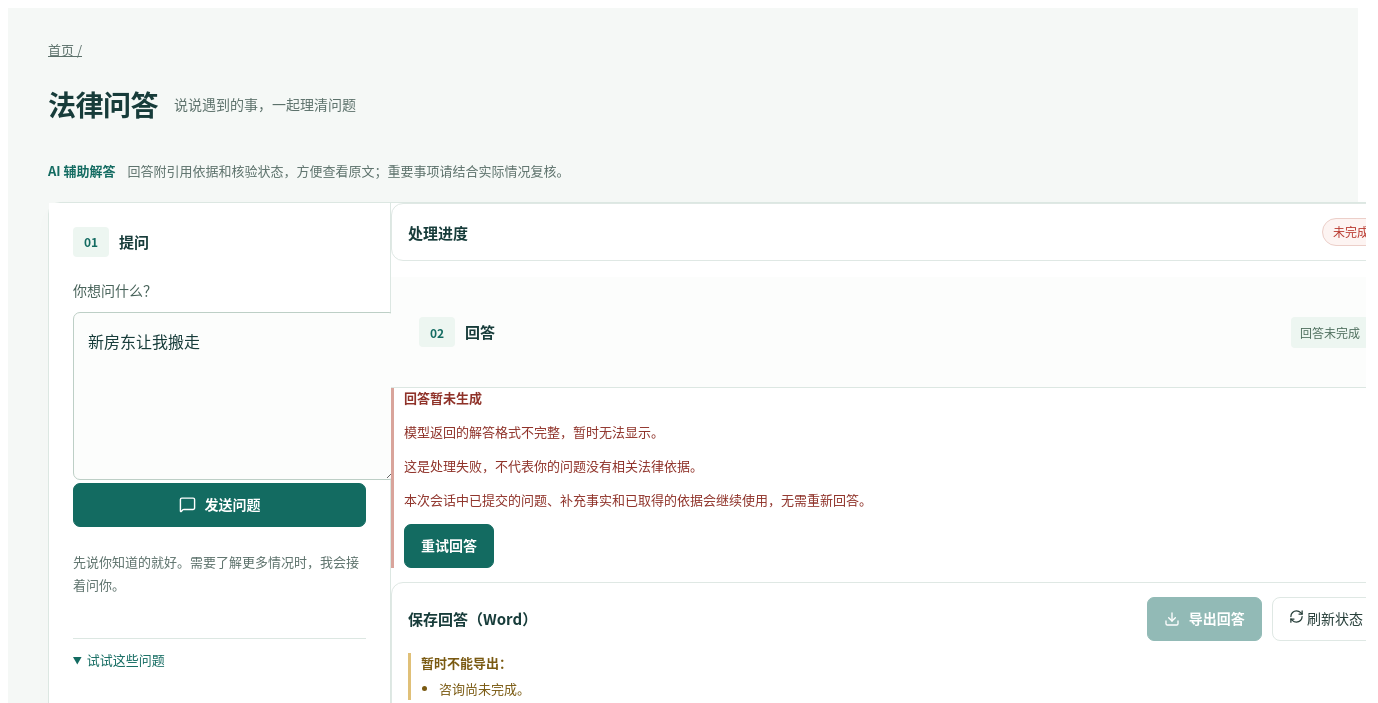
Scenario: 咨询整页的失败与恢复 › 格式失败显示重试而不是无依据，沿用原会话，不重新提交问题
This screenshot has width=1378, height=703.
Expected: the text "回答暂未生成" is shown, top-left (404, 388), bottom-right (482, 408)
Expected: the text "模型返回的解答格式不完整，暂时无法显示。" is shown, top-left (404, 422), bottom-right (664, 441)
Click the button "重试回答" at (449, 546), box top-left (404, 524), bottom-right (494, 568)
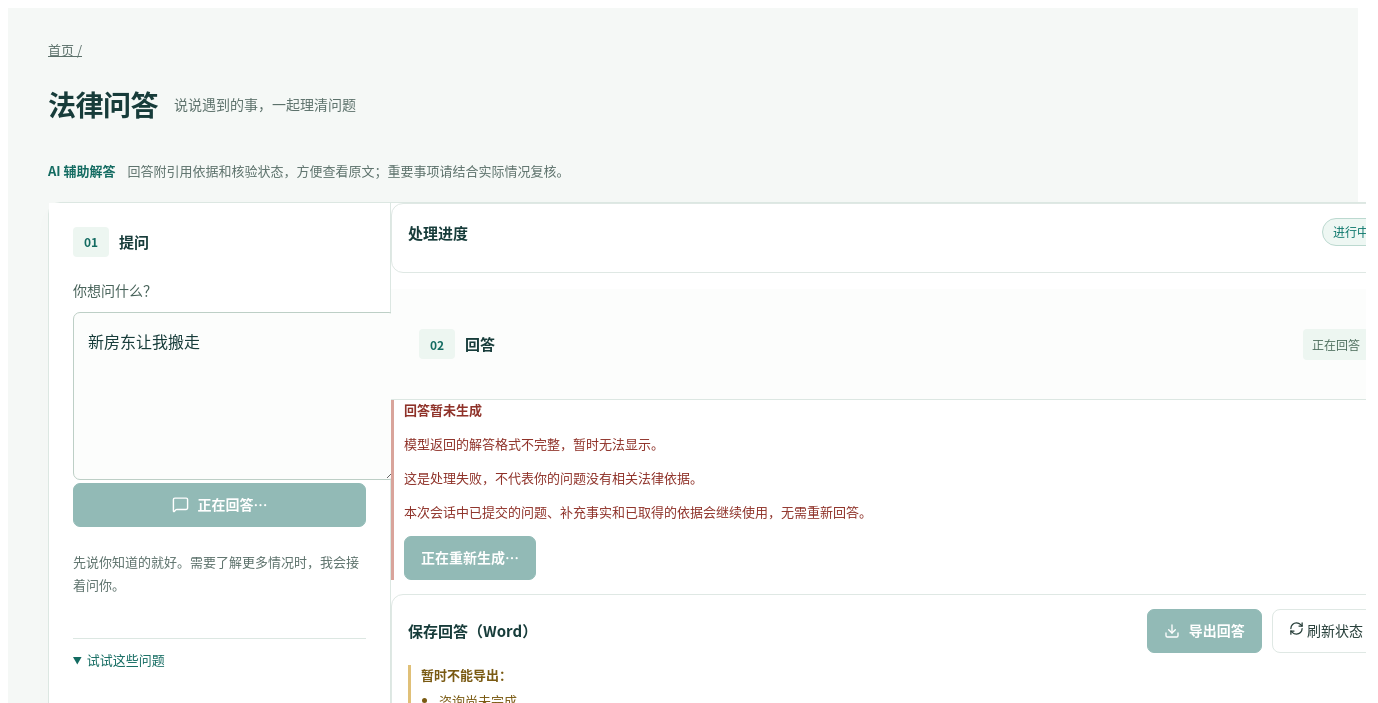
Click the button named "重试回答" at (470, 558), box top-left (404, 536), bottom-right (536, 580)
(page scrolled)
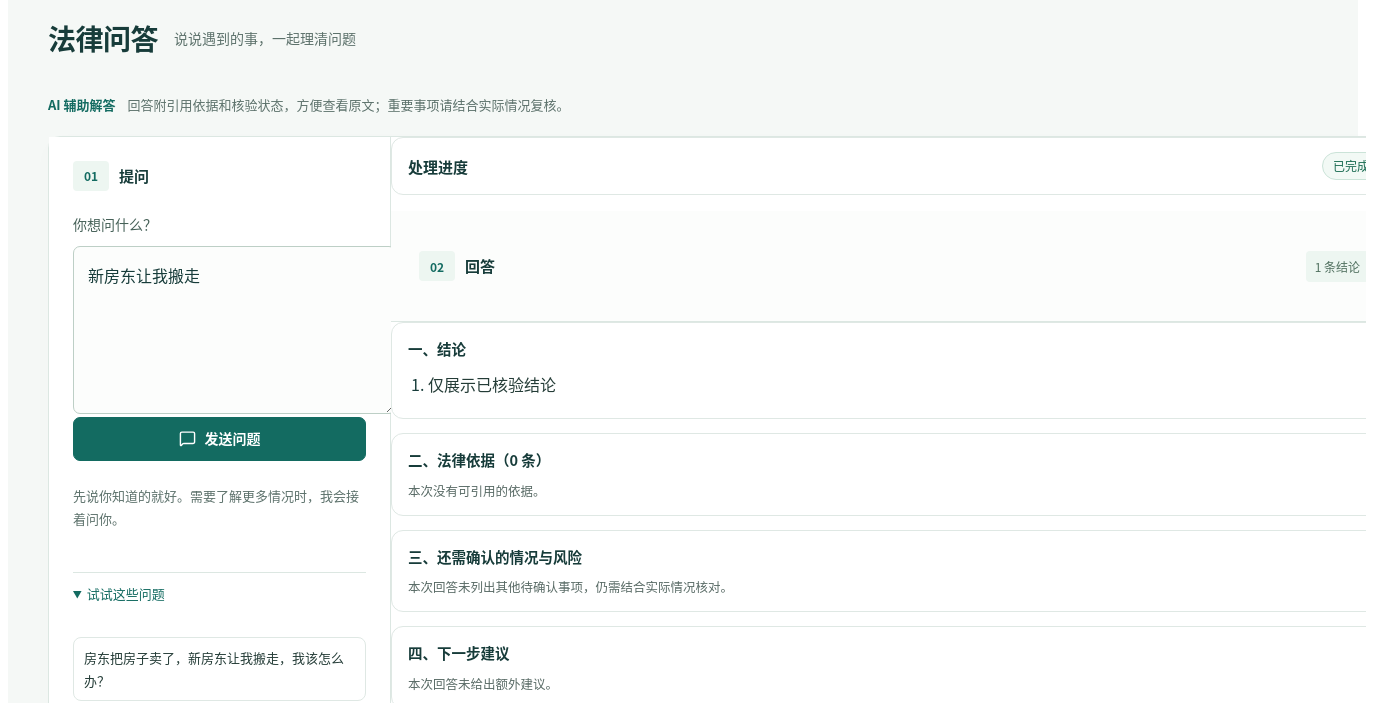
Expected: the text "仅展示已核验结论" is shown, top-left (428, 372), bottom-right (556, 396)
Expected: the text "回答暂未生成" is gone
